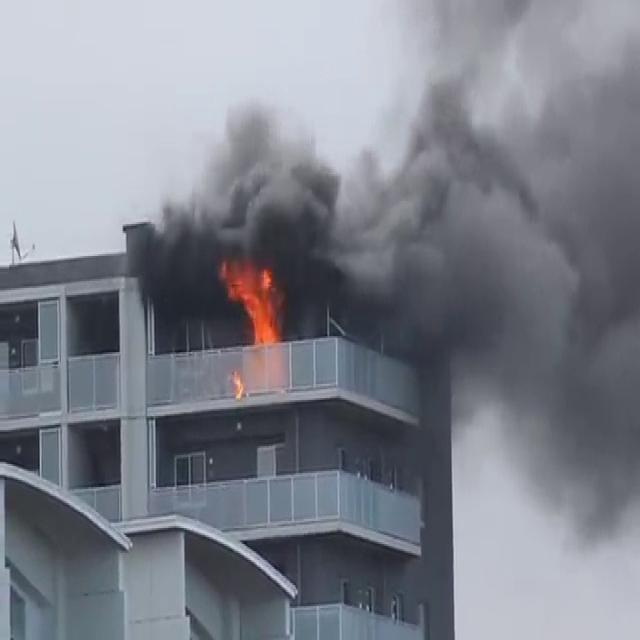Fire: (217, 252, 289, 350)
Smoke: (134, 49, 640, 371)
